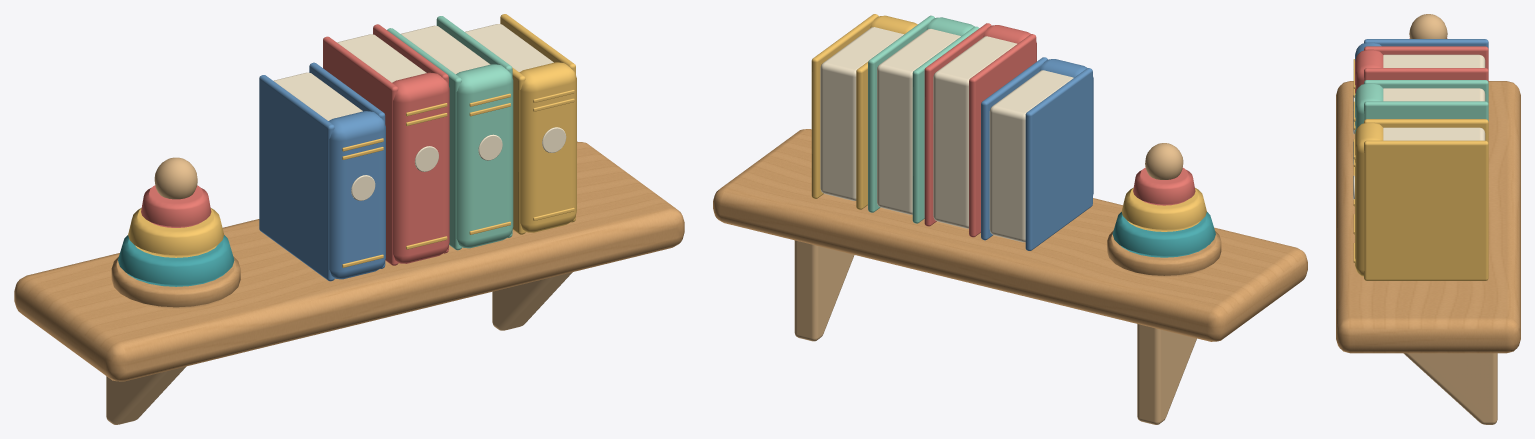
The model's file is playroom_wall_shelf.glb.
3 renders of one model, left to right at view 1: azimuth 30°, elevation 25°; view 2: azimuth 150°, elevation 25°; view 3: azimuth 270°, elevation 25°, orthographic. The views are drawn at different scales.
Parts seen in each view (by area): view 1: playroom_wall_shelf; view 2: playroom_wall_shelf; view 3: playroom_wall_shelf.
Boxes of the visible parts, x1,y1,x2,y2 form: playroom_wall_shelf: [14, 14, 684, 424]; playroom_wall_shelf: [713, 14, 1307, 424]; playroom_wall_shelf: [1336, 14, 1520, 424].
Bounding box in the file's own units: 2.63 × 1.46 × 0.83.
8 materials, 1 textured.
